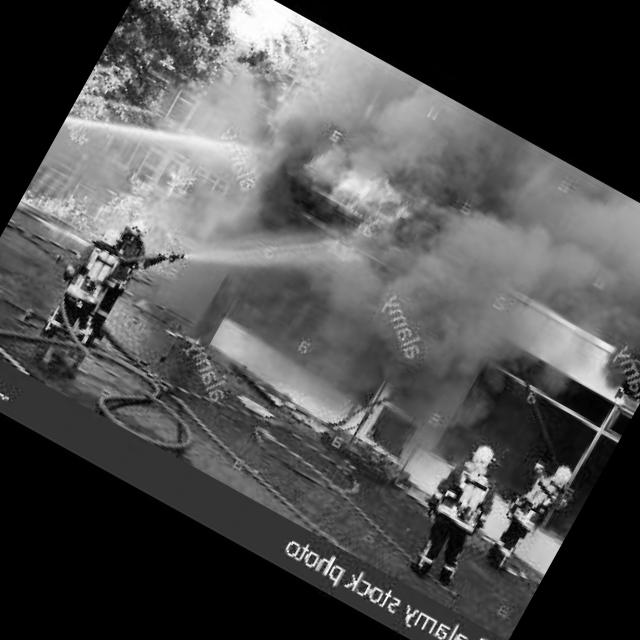fire: (256, 118, 443, 281)
